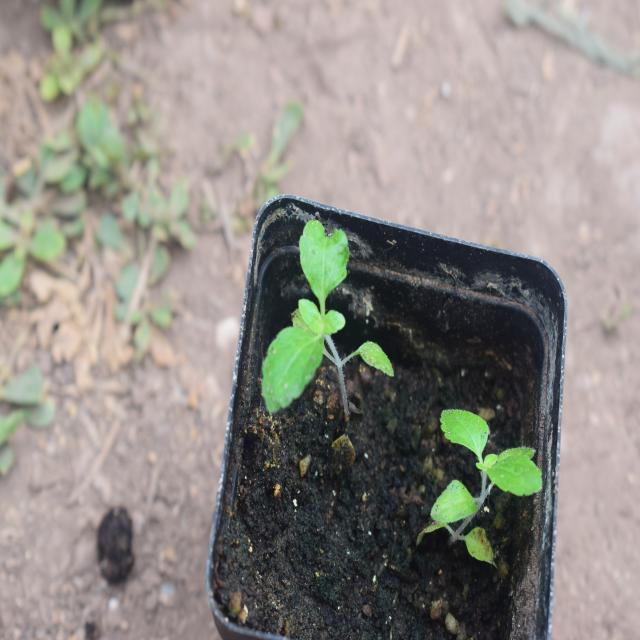billygoat_weed: (252, 197, 373, 408), (410, 386, 550, 556)
